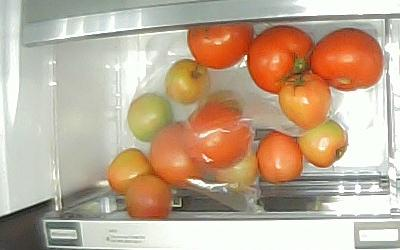tomato: (312, 28, 383, 91), (248, 26, 313, 94), (187, 22, 252, 70), (279, 71, 331, 130), (295, 116, 350, 167), (257, 131, 303, 184), (108, 148, 153, 196), (127, 175, 172, 220)
tomato_vinyl: (188, 101, 251, 169), (150, 122, 205, 188), (128, 94, 173, 144), (166, 60, 210, 105), (216, 151, 257, 193)
